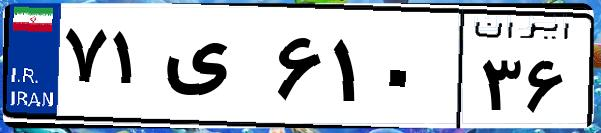0: (385, 28, 445, 110)
1: (330, 28, 385, 110), (110, 28, 158, 98)
3: (475, 38, 525, 113)
6: (270, 28, 330, 110), (525, 38, 570, 115)
7: (57, 26, 110, 100)
ی: (158, 20, 270, 120)
